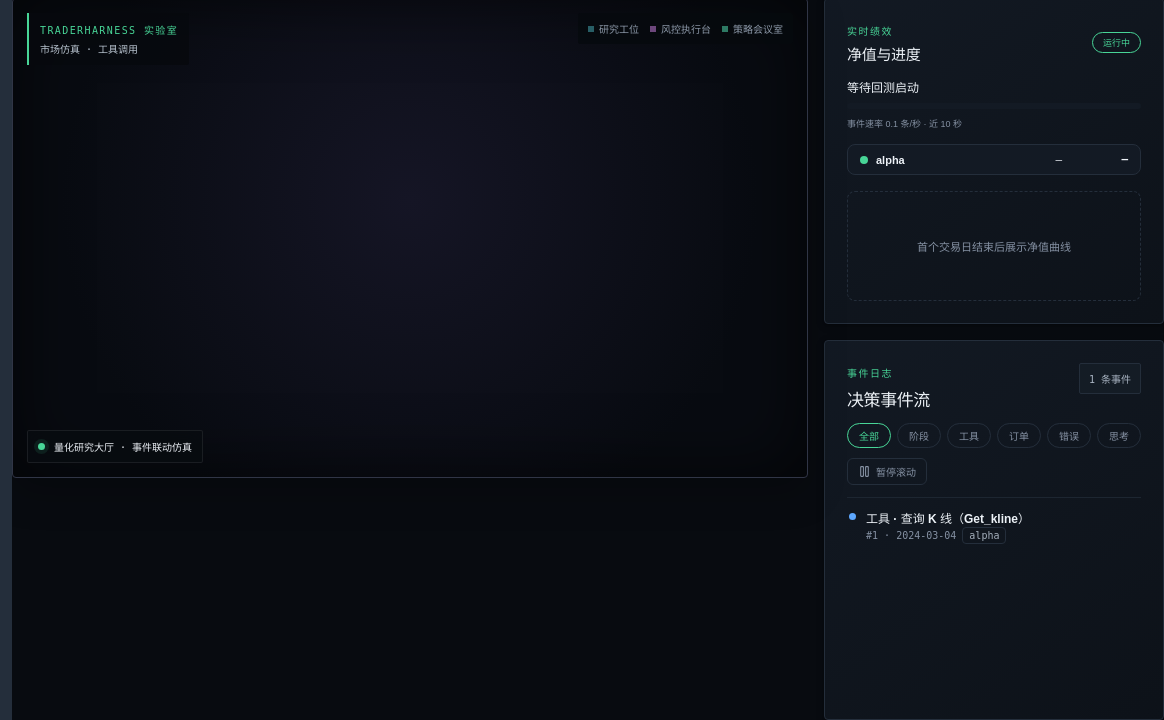
LiveRun › pauses the stream, accumulates a backlog pill, and resumes on click
(page scrolled)
Expected: the text "工具 · 查询 K 线（get_kline）" is shown, x1=866 y1=509 x2=1030 y2=526
Step 1. Click the button "暂停滚动" → [887, 472], box x1=847 y1=458 x2=927 y2=485
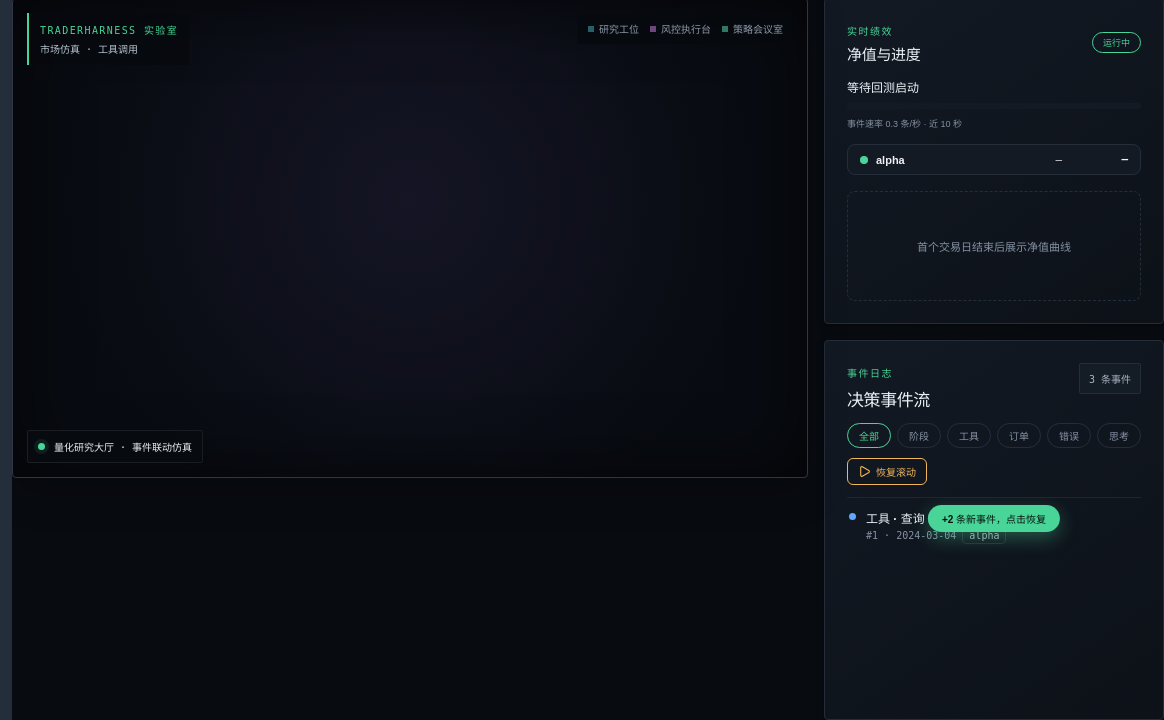
Expected: the text "get_news" is not shown
Expected: the text "get_portfolio" is not shown
Step 2. Click the button "+2 条新事件，点击恢复" → [994, 519], box x1=928 y1=505 x2=1060 y2=532
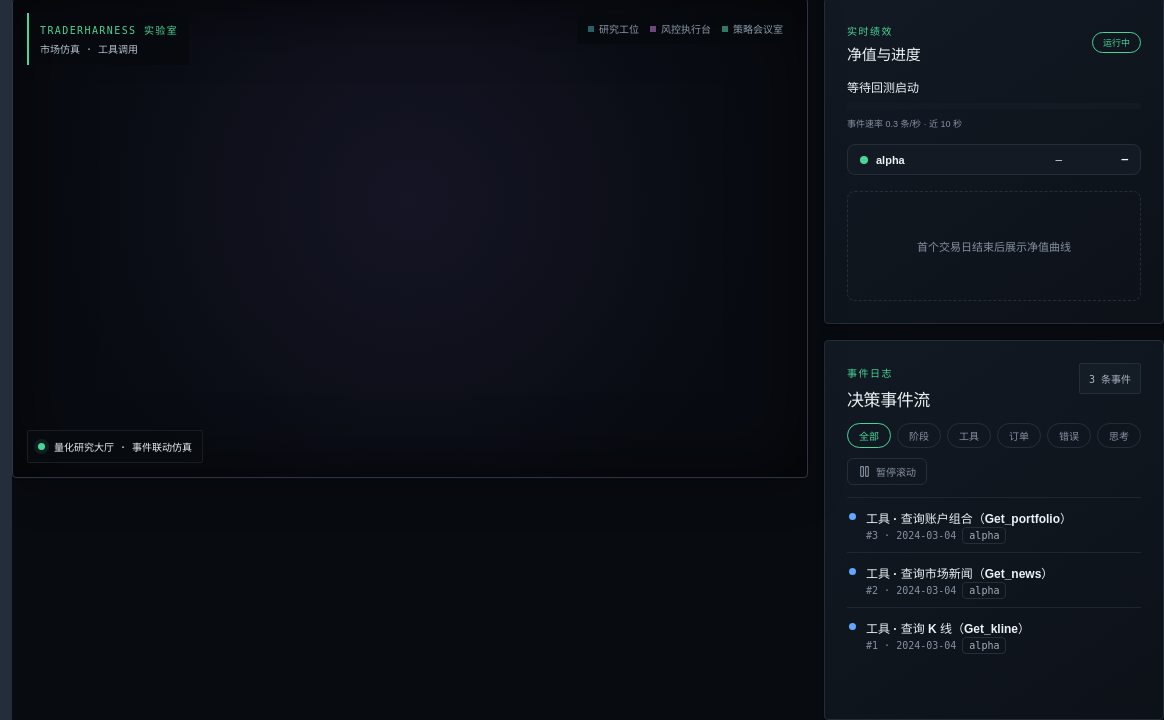
Result: the text "工具 · 查询市场新闻（get_news）" is shown at x1=866 y1=564 x2=1053 y2=581
Result: the text "工具 · 查询账户组合（get_portfolio）" is shown at x1=866 y1=509 x2=1072 y2=526
